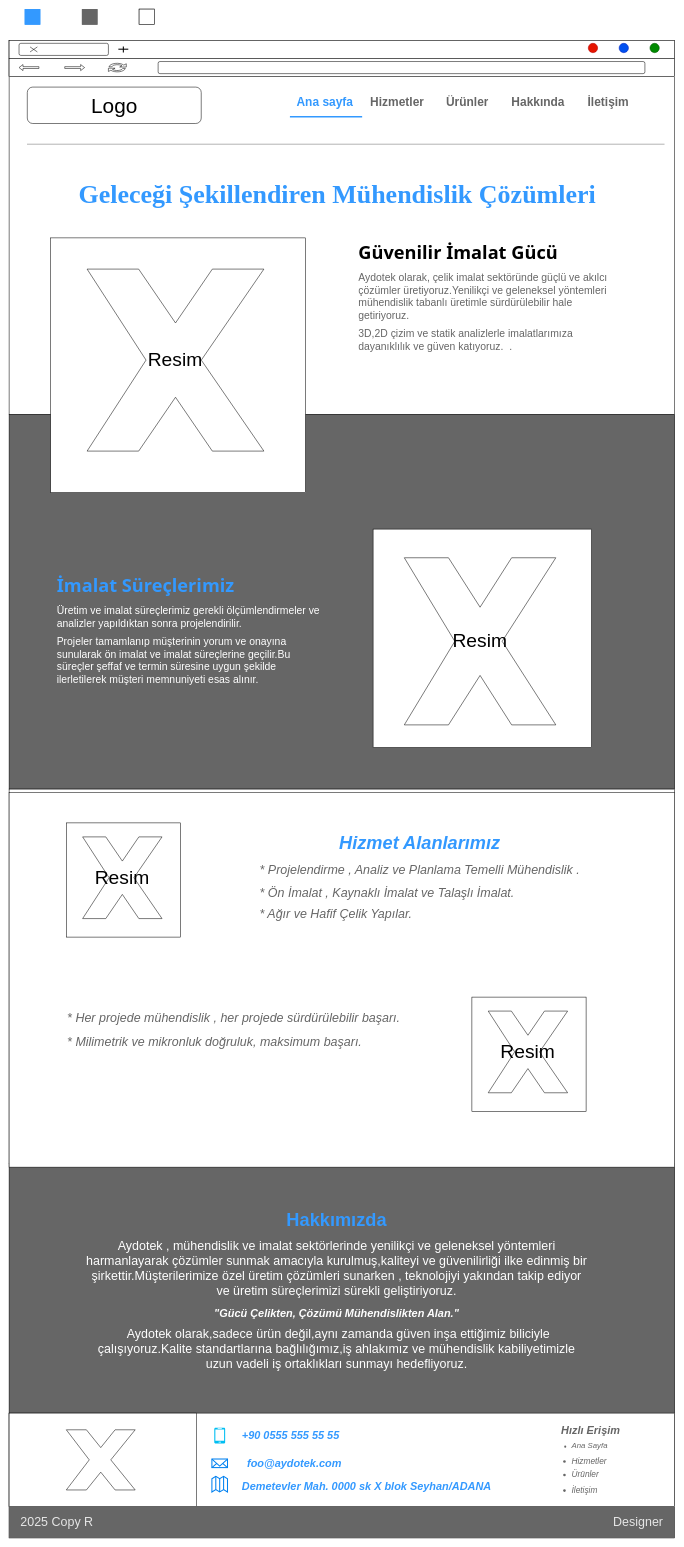
This 684x1547 diagram has some shape labels left out. The box of each missing label's shape, as (x1, y1, x2, y2) in pixels:
Harita: (66, 1429, 135, 1490)
Https://www.xyc.com: (158, 61, 645, 74)
Site Name: (19, 43, 108, 55)
